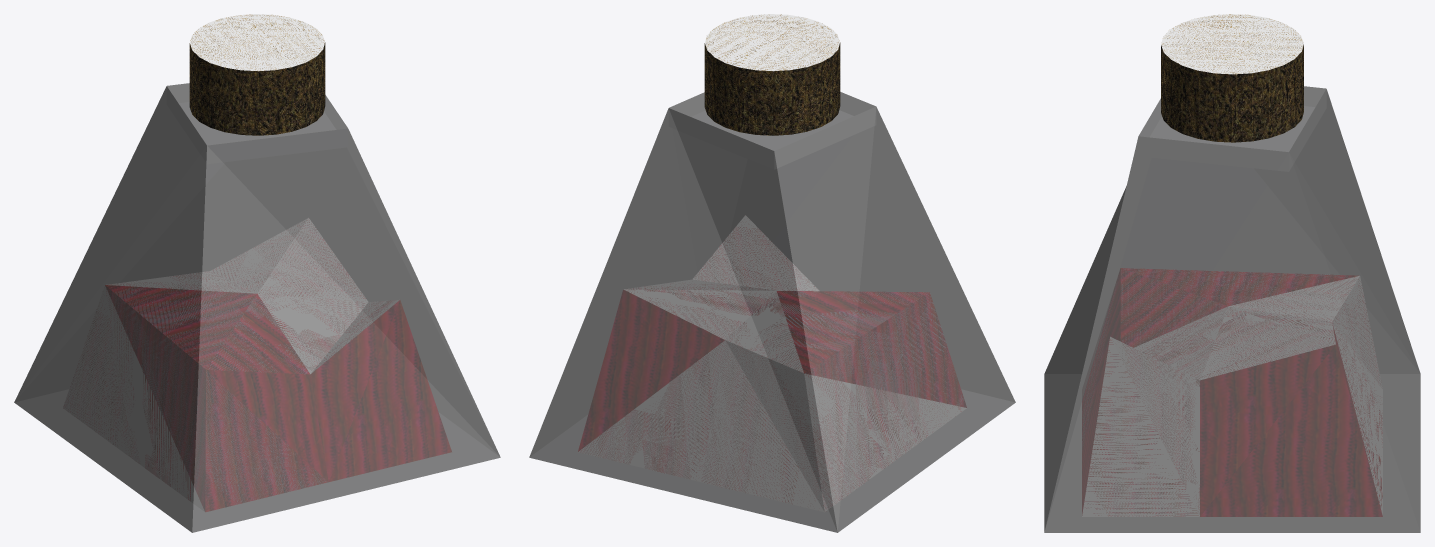
3 views of the same model, side by side, from view 1: azimuth 30°, elevation 25°; view 2: azimuth 150°, elevation 25°; view 3: azimuth 270°, elevation 25° (orthographic). The views are drawn at different scales.
Parts seen in each view (by area): view 1: SketchUp (×5); view 2: SketchUp (×5); view 3: SketchUp (×5).
Boxes of the visible parts, <box> form: SketchUp (×5): <box>14,14,500,532</box>; SketchUp (×5): <box>529,14,1015,532</box>; SketchUp (×5): <box>1044,14,1420,532</box>.
Bounding box in the file's own units: 39.37 × 39.37 × 47.24.
6 materials, 3 textured.
